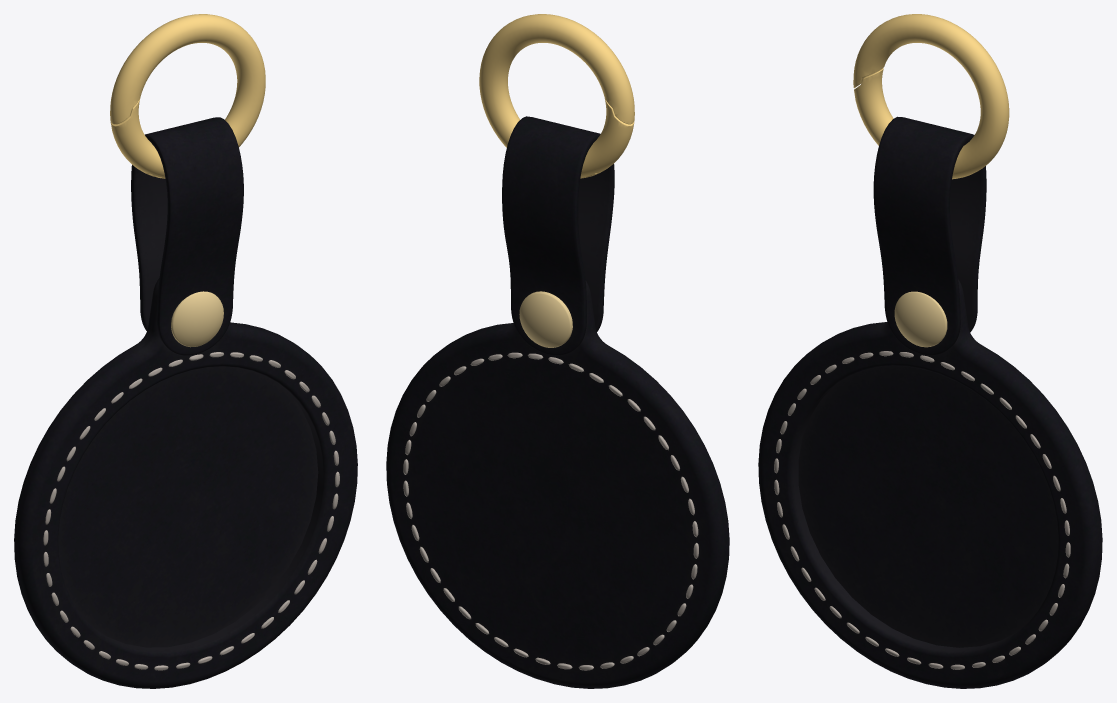
File: predio.glb
3 views of the same model, side by side, from view 1: azimuth 30°, elevation 25°; view 2: azimuth 150°, elevation 25°; view 3: azimuth 330°, elevation 25° (orthographic).
Visible parts, largest first — view 1: 立方体:002; view 2: 立方体:002; view 3: 立方体:002.
Boxes of the visible parts, x1,y1,x2,y2 form: 立方体:002: (14,14,357,688); 立方体:002: (386,14,729,688); 立方体:002: (758,14,1102,688).
Size of the model in its own units: 0.6026 by 1.13 by 0.1234.
2 materials, 1 textured.
